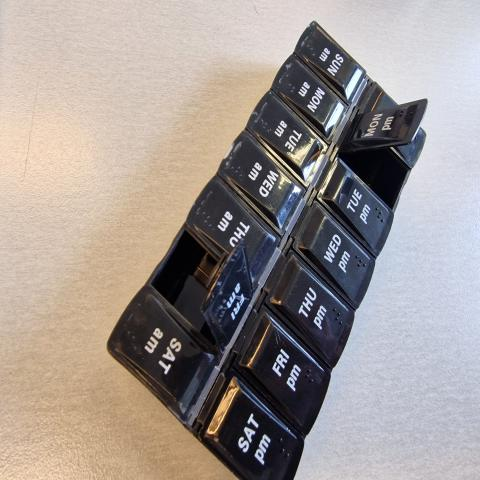Open: (151, 228, 239, 343), (340, 142, 412, 213)
